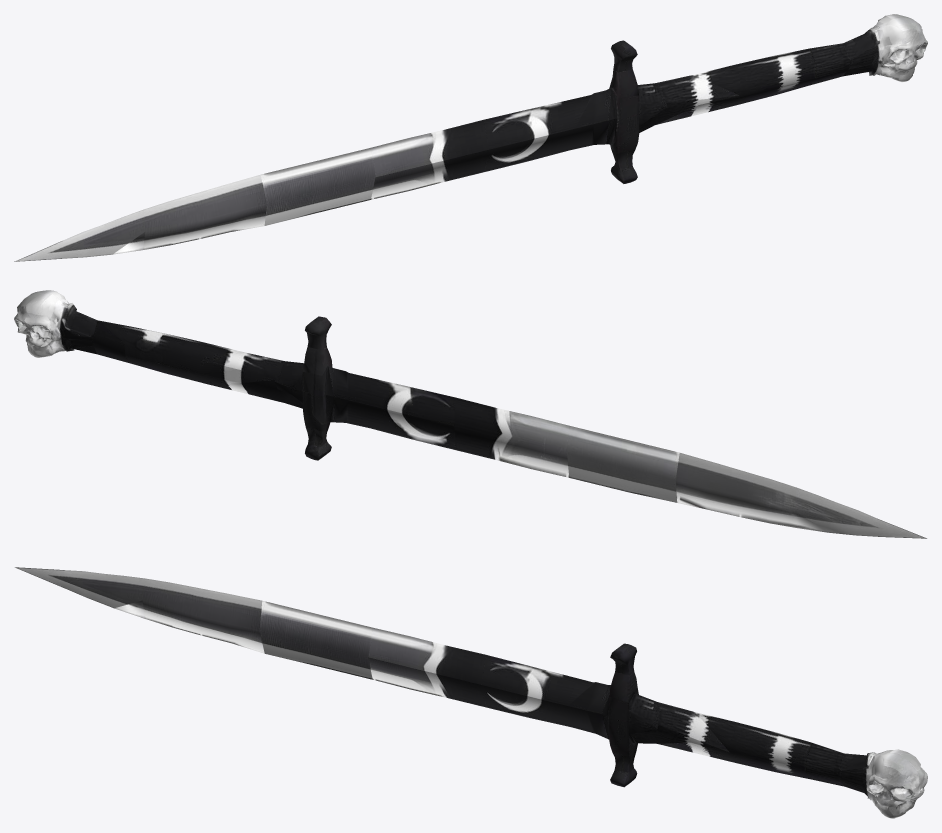
The model's file is p5w-a0-shadow-fang.glb.
3 renders of one model, top to bottom at view 1: azimuth 30°, elevation 25°; view 2: azimuth 150°, elevation 25°; view 3: azimuth 330°, elevation 25°, orthographic.
Size of the model in its own units: 0.9512 by 0.1377 by 0.0469.
Materials: 1 (1 with a texture image).
